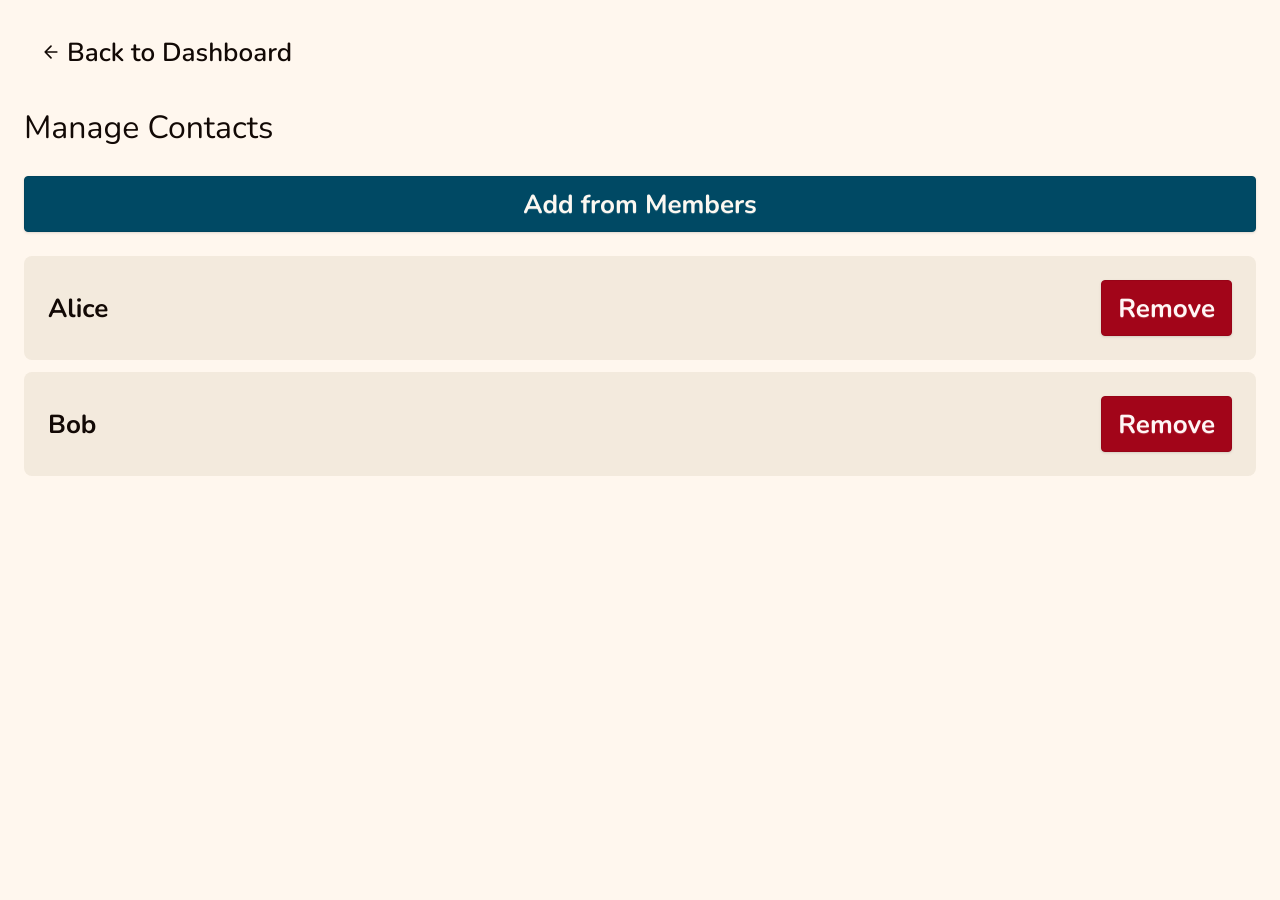
ManageContacts › shows error when removeContact throws
Click the button "Remove" in the row of "Alice". click: x=1167, y=308
box: [1101,280,1232,336]
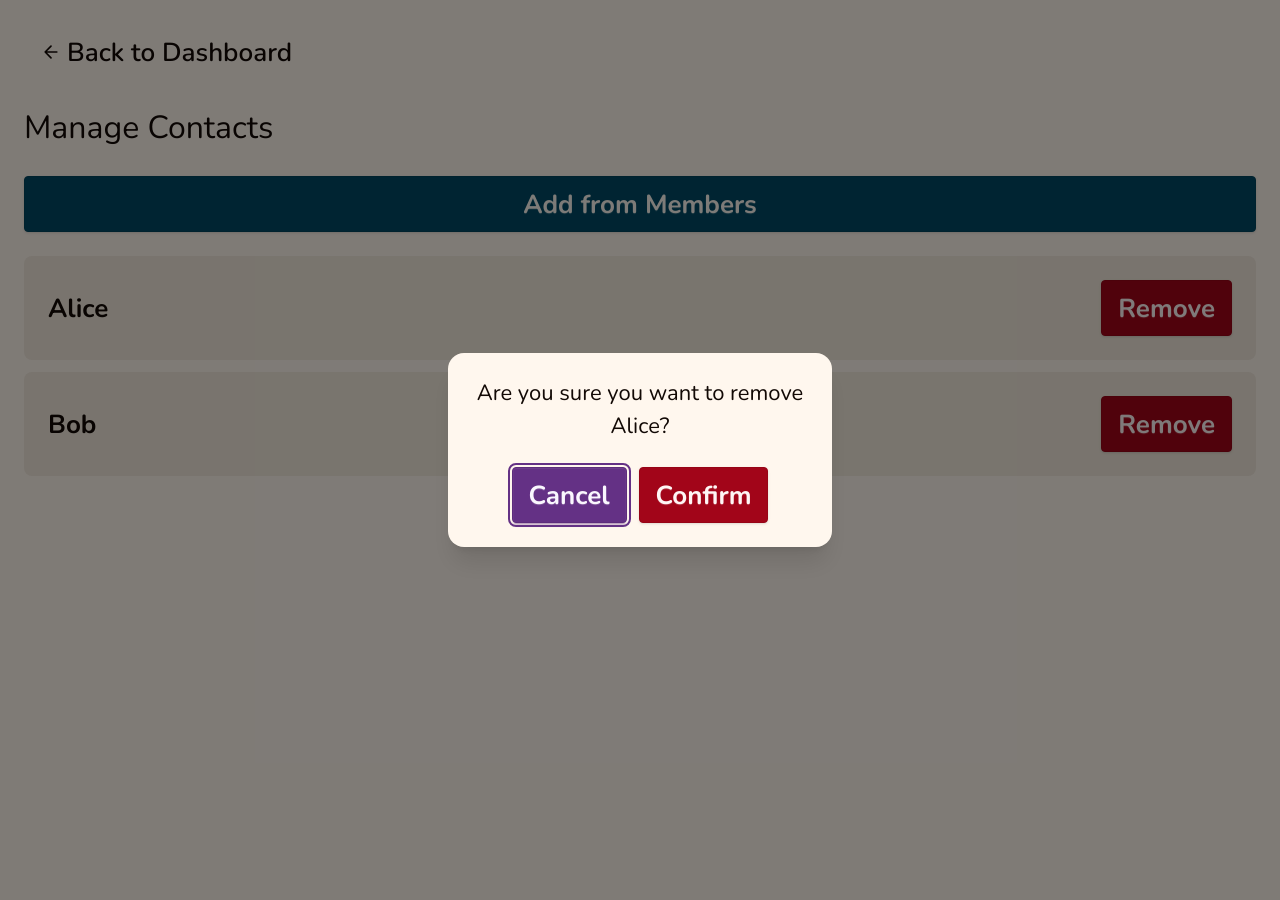
Click the button "Confirm". click: x=704, y=495
box: [639,467,768,523]
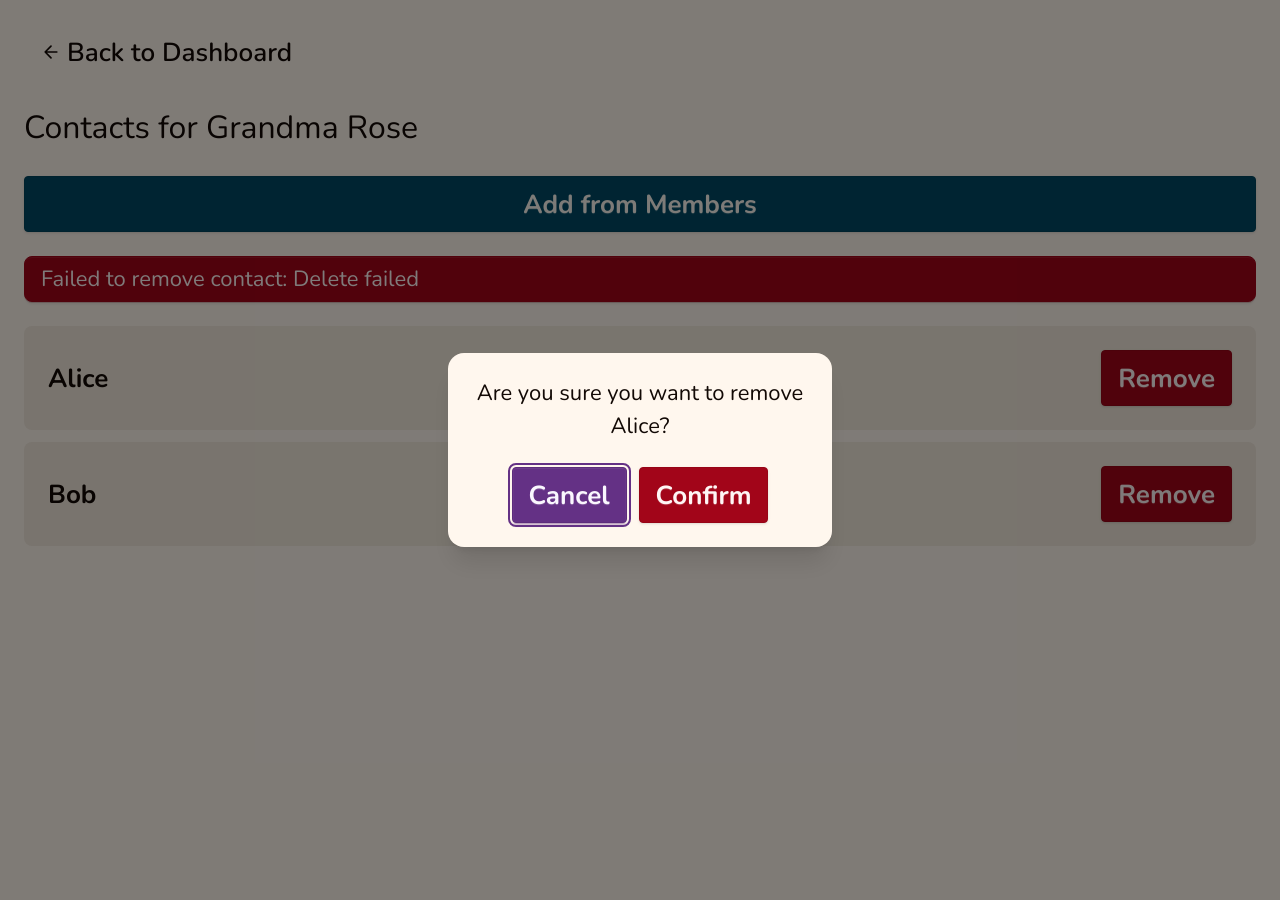
expect the message "Failed to remove contact: Delete failed" is shown: met, box [24,256,1256,302]
